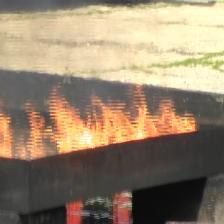fire: (3, 101, 202, 155)
